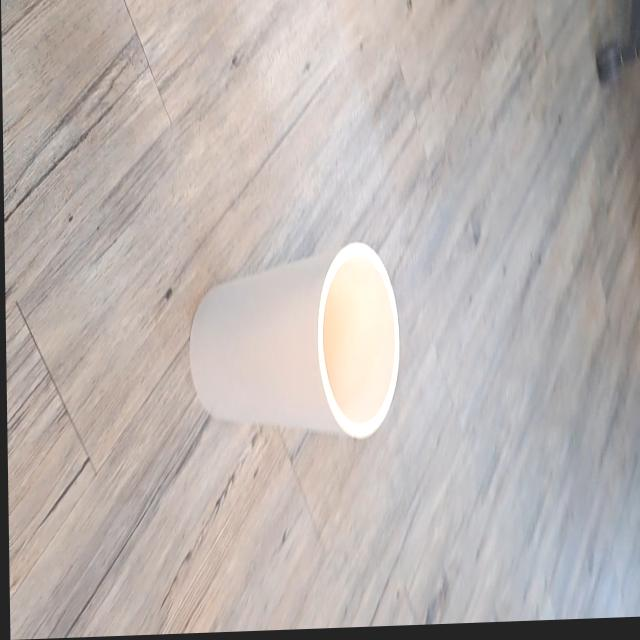CORAL: (152, 204, 417, 508)
